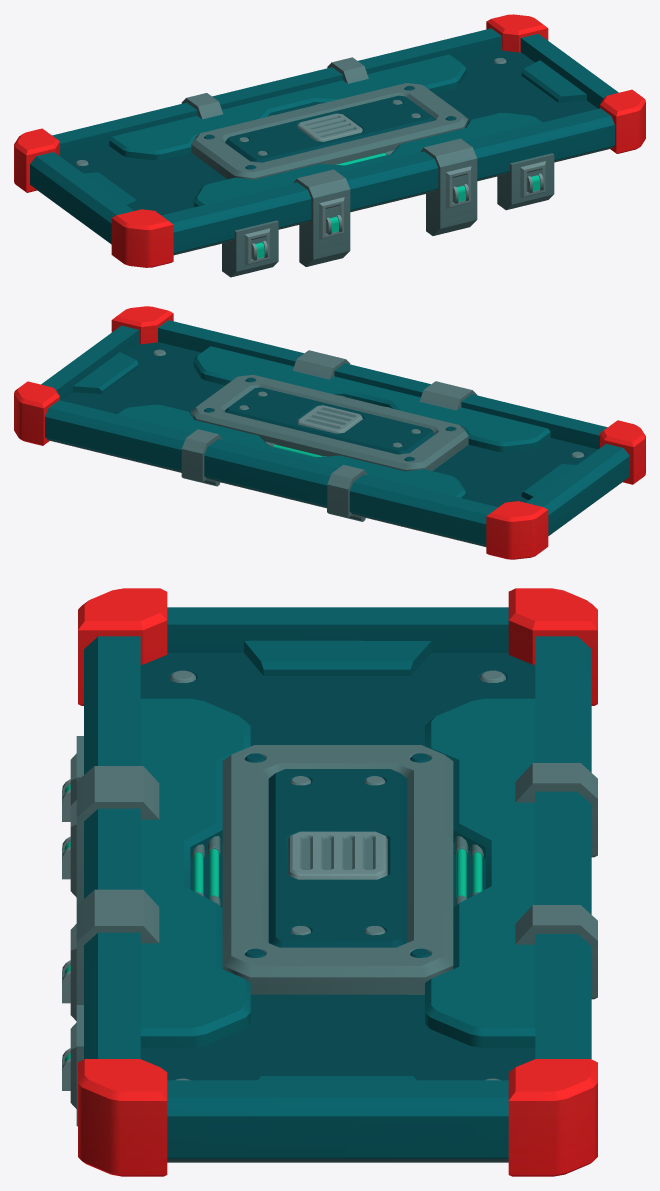
Rendered from Container_07_Cap.fbx.
3 views of the same model, one above another, from view 1: azimuth 30°, elevation 25°; view 2: azimuth 150°, elevation 25°; view 3: azimuth 270°, elevation 25° (orthographic). The views are drawn at different scales.
Parts seen in each view (by area): view 1: Container_07_Cap; view 2: Container_07_Cap; view 3: Container_07_Cap.
Boxes of the visible parts, x1,y1,x2,y2 form: Container_07_Cap: (14, 14, 645, 277); Container_07_Cap: (14, 306, 645, 559); Container_07_Cap: (62, 588, 597, 1176).
Size of the model in its own units: 153 by 23.84 by 68.23.
